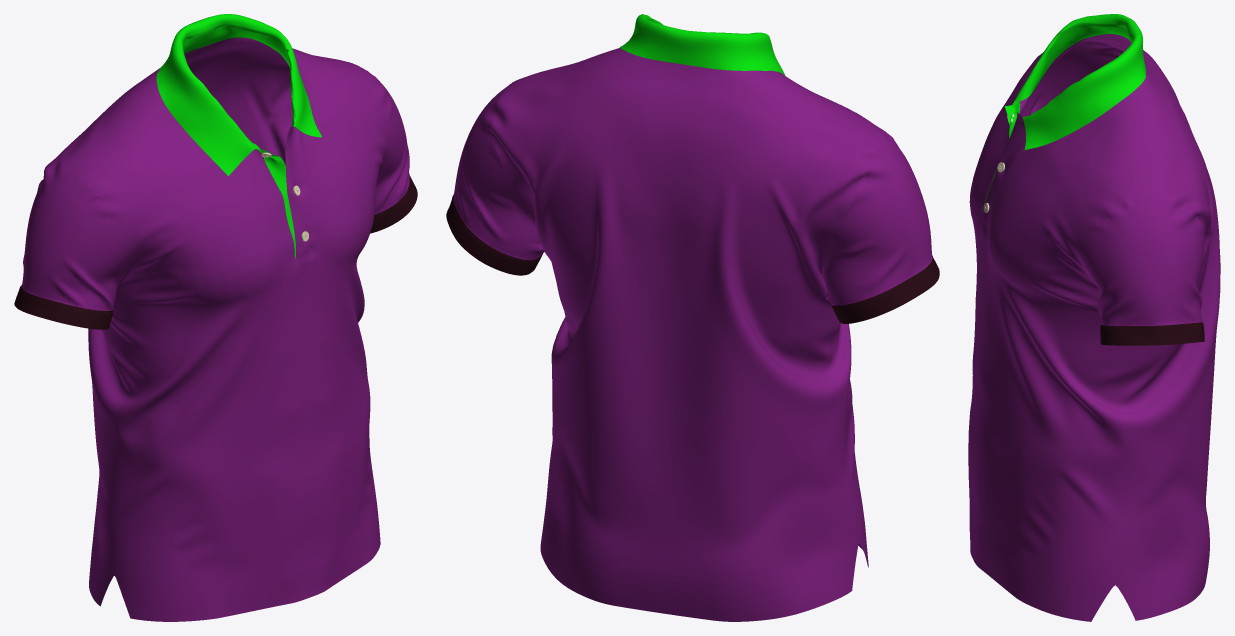
The model's file is polo.glb.
3 renders of one model, left to right at view 1: azimuth 30°, elevation 25°; view 2: azimuth 150°, elevation 25°; view 3: azimuth 270°, elevation 25°, orthographic. The views are drawn at different scales.
Visible parts, largest first — view 1: Design_mat_BRG509F_2_0_Outside, Design_mat_BRG509B_1_0_Outside, Design_mat_Att_17_0_Outside, Design_mat_Att_16_0_Outside, Design_mat_Att_15_0_Outside, Design_mat_Att_22_0_Outside, Design_mat_Att_21_0_Outside, Design_mat_BRG509PLT_4_0_Outside; view 2: Design_mat_BRG509B_1_0_Outside, Design_mat_Att_17_0_Outside, Design_mat_Att_15_0_Outside, Design_mat_Att_16_0_Outside, Design_mat_BRG509F_2_0_Outside, Design_mat_Att_22_0_Outside, Design_mat_Att_21_0_Outside; view 3: Design_mat_BRG509F_2_0_Outside, Design_mat_BRG509B_1_0_Outside, Design_mat_Att_15_0_Outside, Design_mat_Att_16_0_Outside, Design_mat_Att_17_0_Outside, Design_mat_Att_21_0_Outside.
Boxes of the visible parts, left/top/right/bottom form: Design_mat_BRG509F_2_0_Outside: left=75, top=52, right=393, bottom=621; Design_mat_BRG509B_1_0_Outside: left=44, top=37, right=361, bottom=606; Design_mat_Att_17_0_Outside: left=21, top=169, right=129, bottom=310; Design_mat_Att_16_0_Outside: left=156, top=14, right=321, bottom=176; Design_mat_Att_15_0_Outside: left=370, top=73, right=409, bottom=214; Design_mat_Att_22_0_Outside: left=14, top=285, right=113, bottom=329; Design_mat_Att_21_0_Outside: left=370, top=174, right=417, bottom=233; Design_mat_BRG509PLT_4_0_Outside: left=252, top=143, right=295, bottom=258; Design_mat_BRG509B_1_0_Outside: left=492, top=48, right=882, bottom=621; Design_mat_Att_17_0_Outside: left=823, top=137, right=932, bottom=305; Design_mat_Att_15_0_Outside: left=453, top=82, right=544, bottom=259; Design_mat_Att_16_0_Outside: left=619, top=14, right=785, bottom=75; Design_mat_BRG509F_2_0_Outside: left=509, top=48, right=893, bottom=567; Design_mat_Att_22_0_Outside: left=831, top=256, right=939, bottom=323; Design_mat_Att_21_0_Outside: left=446, top=194, right=542, bottom=275; Design_mat_BRG509F_2_0_Outside: left=968, top=37, right=1143, bottom=621; Design_mat_BRG509B_1_0_Outside: left=1083, top=34, right=1220, bottom=620; Design_mat_Att_15_0_Outside: left=1082, top=198, right=1204, bottom=325; Design_mat_Att_16_0_Outside: left=1012, top=14, right=1145, bottom=149; Design_mat_Att_17_0_Outside: left=1021, top=41, right=1119, bottom=116; Design_mat_Att_21_0_Outside: left=1100, top=322, right=1204, bottom=345.
Size of the model in its own units: 0.4356 by 0.527 by 0.2257.
